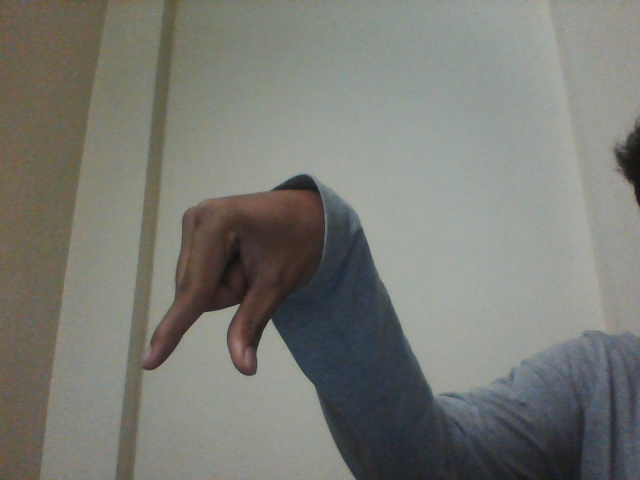q: (136, 184, 304, 397)
